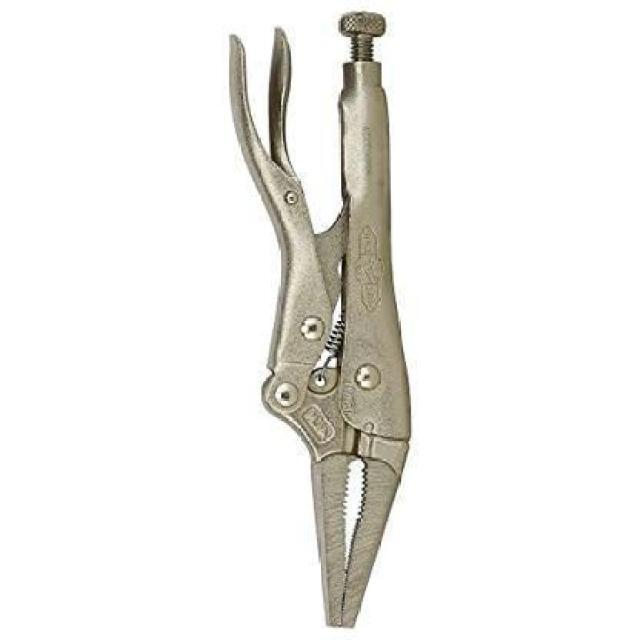pliers: (197, 11, 411, 637)
